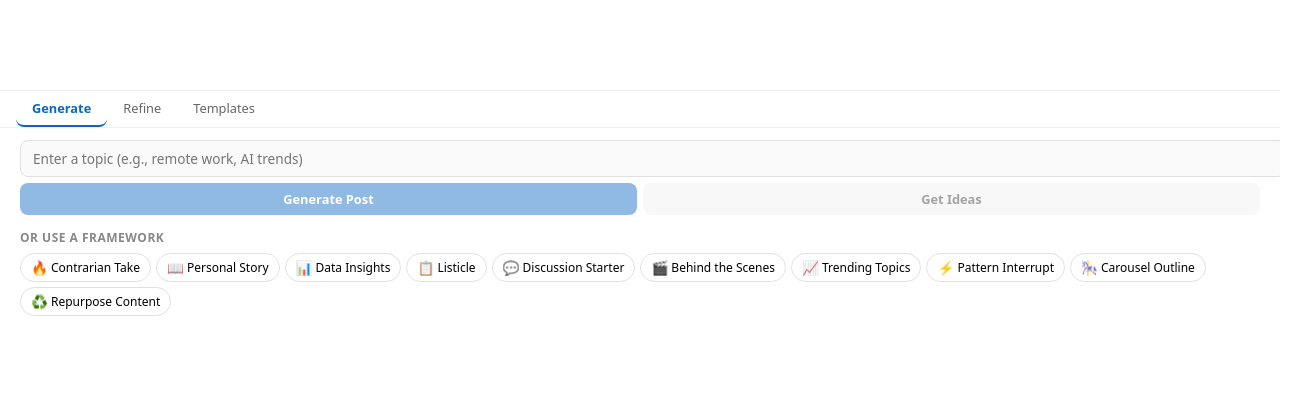
AiPanel › shows framework detail when a chip is clicked
This screenshot has width=1292, height=395.
What coordinates should you click on to do the following:
click the text "Contrarian Take"
I would click on:
 (96, 268)
Its box is [51, 259, 140, 276].
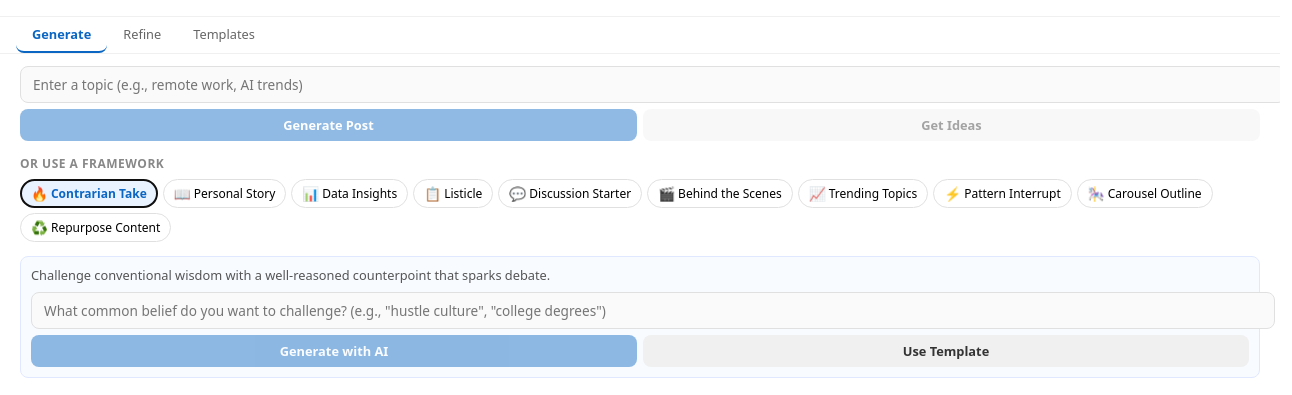
Result: the text "Challenge conventional wisdom" is shown at [31, 266, 550, 284]
Result: the field with placeholder "common belief" is shown at [31, 292, 1275, 330]
